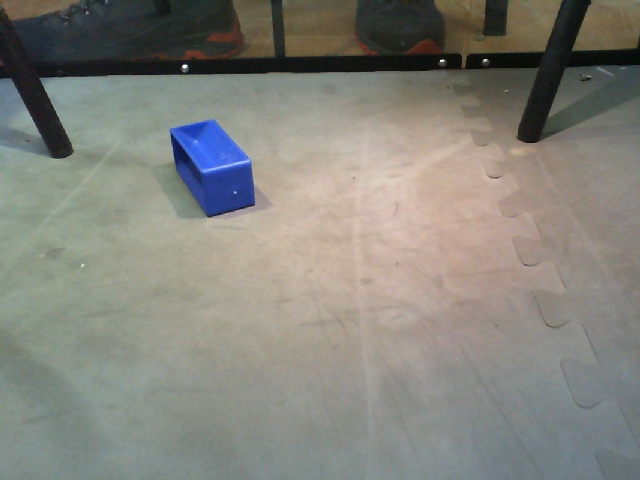BlueSample: (166, 117, 260, 219)
